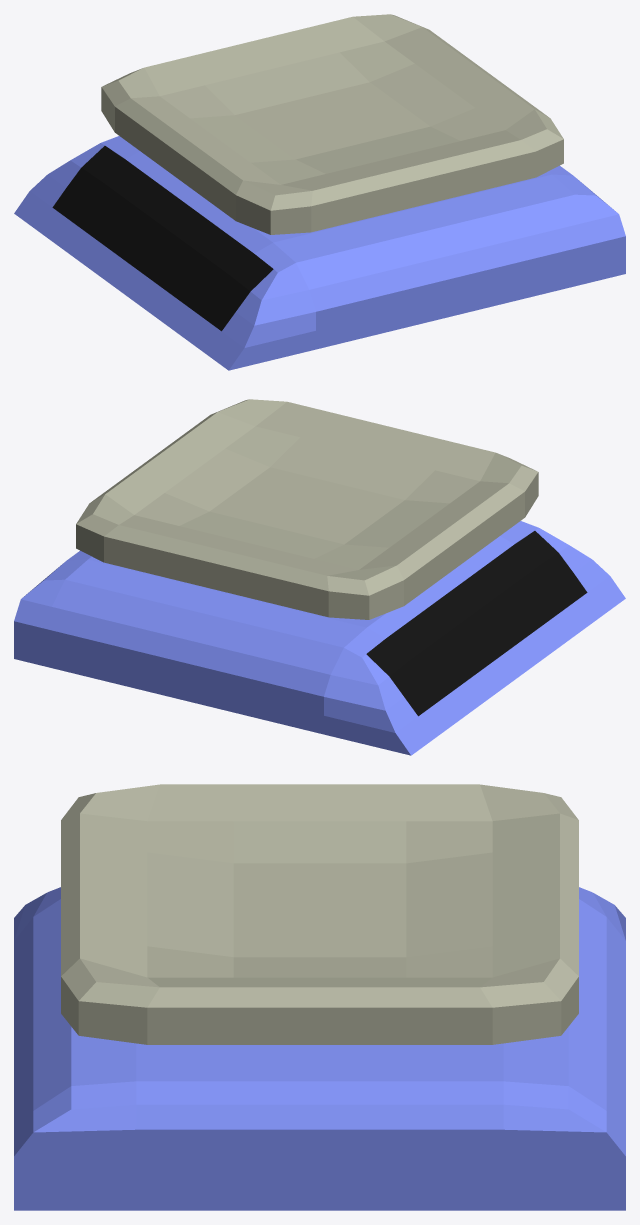
File: weegschaal.fbx
3 views of the same model, one above another, from view 1: azimuth 30°, elevation 25°; view 2: azimuth 150°, elevation 25°; view 3: azimuth 270°, elevation 25° (orthographic). The views are drawn at different scales.
Visible parts, largest first — view 1: Cube, Cube.001; view 2: Cube, Cube.001; view 3: Cube.001, Cube.
Boxes of the visible parts, x1=… form: Cube: x1=14, y1=136, x2=625, y2=370; Cube.001: x1=101, y1=14, x2=563, y2=234; Cube: x1=14, y1=521, x2=625, y2=755; Cube.001: x1=76, y1=399, x2=538, y2=619; Cube.001: x1=61, y1=784, x2=578, y2=1044; Cube: x1=14, y1=887, x2=625, y2=1210.
Bounding box in the file's own units: 214 × 70.4 × 200.
